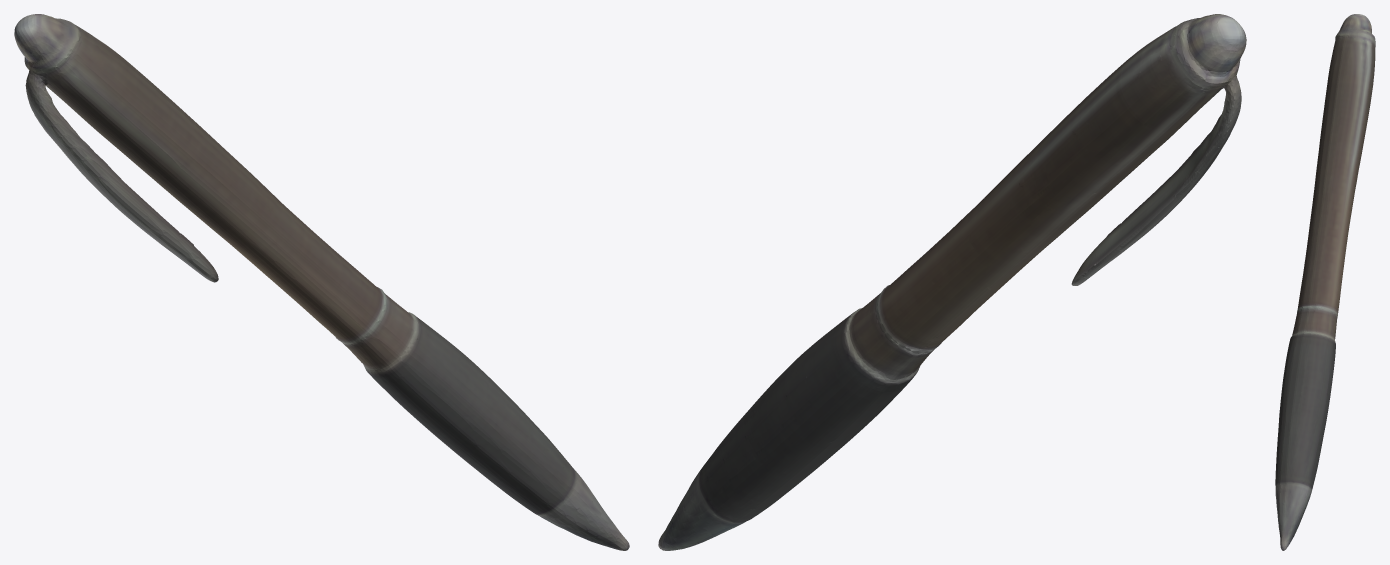
The model's file is frame_0016_source_000016_object.glb.
3 renders of one model, left to right at view 1: azimuth 30°, elevation 25°; view 2: azimuth 150°, elevation 25°; view 3: azimuth 270°, elevation 25°, orthographic. The views are drawn at different scales.
Parts seen in each view (by area): view 1: world; view 2: world; view 3: world.
Boxes of the visible parts, x1,y1,x2,y2 form: world: [14, 14, 629, 550]; world: [658, 14, 1246, 550]; world: [1275, 14, 1375, 550].
Bounding box in the file's own units: 0.1314 × 0.1411 × 0.0338.
